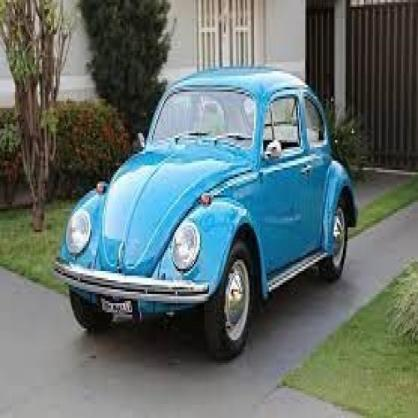car: (65, 71, 359, 361)
